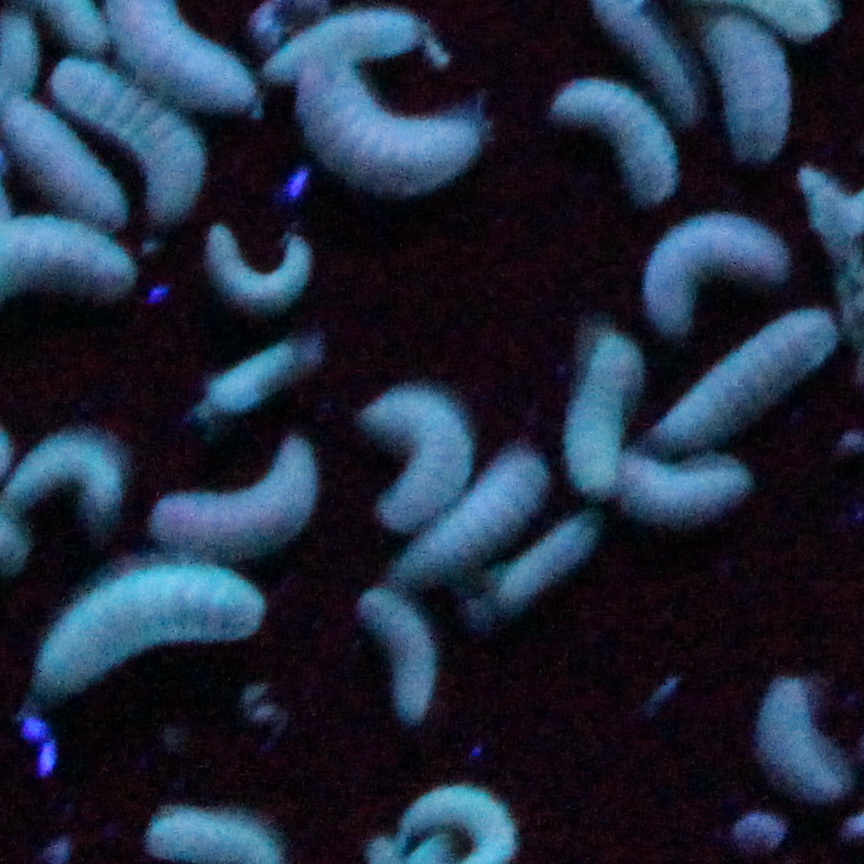larve: (25, 562, 272, 715), (653, 314, 840, 455), (300, 75, 489, 206), (57, 56, 197, 221), (138, 444, 329, 553), (398, 461, 549, 580), (546, 76, 678, 207), (634, 216, 788, 323), (353, 383, 464, 529), (4, 104, 133, 220), (351, 577, 449, 723), (702, 15, 794, 160), (6, 432, 130, 532), (758, 682, 856, 804), (613, 455, 746, 528), (560, 347, 630, 485), (504, 522, 608, 612), (208, 228, 318, 311)
